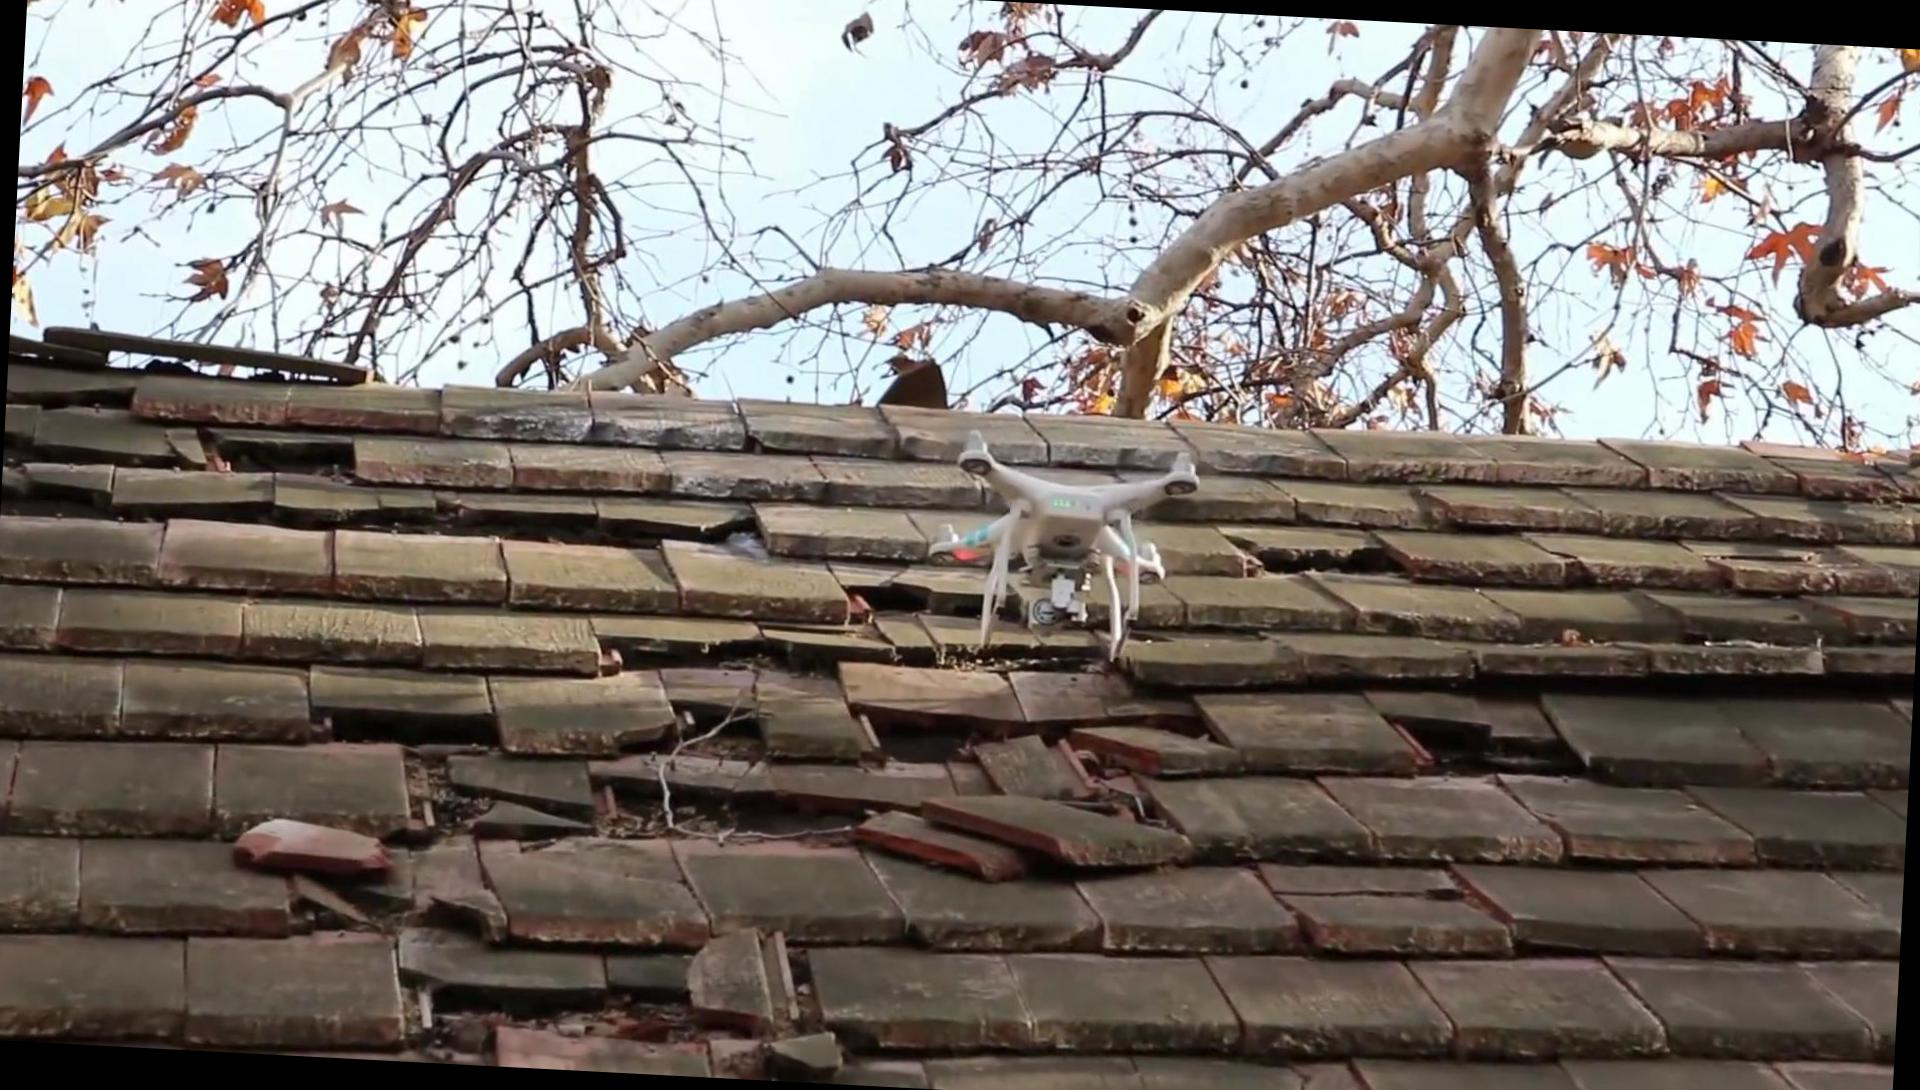drone: (911, 416, 1208, 677)
